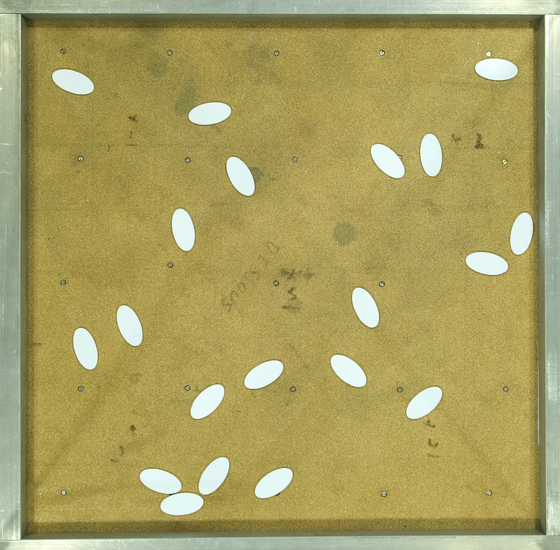pallet: (50, 61, 93, 104), (62, 326, 105, 369), (107, 305, 150, 348), (499, 213, 542, 256), (464, 240, 507, 283), (474, 48, 517, 91), (405, 134, 448, 177), (363, 140, 406, 183), (165, 209, 208, 252), (220, 154, 263, 197), (189, 89, 232, 132), (193, 453, 236, 496), (140, 456, 183, 499), (401, 379, 444, 422), (341, 286, 384, 329), (326, 349, 369, 392), (237, 348, 280, 391), (187, 378, 230, 421), (159, 483, 202, 526), (253, 461, 296, 504)
